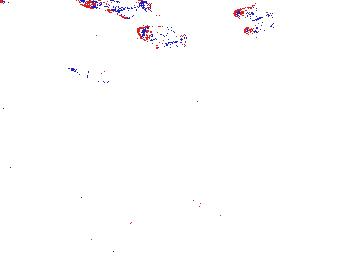X-ray fish: (31, 162, 106, 198), (153, 135, 230, 167)
red belly glassfish: (232, 3, 275, 25), (245, 22, 275, 38)
redtail glassfish: (137, 22, 190, 56), (78, 1, 155, 20)
